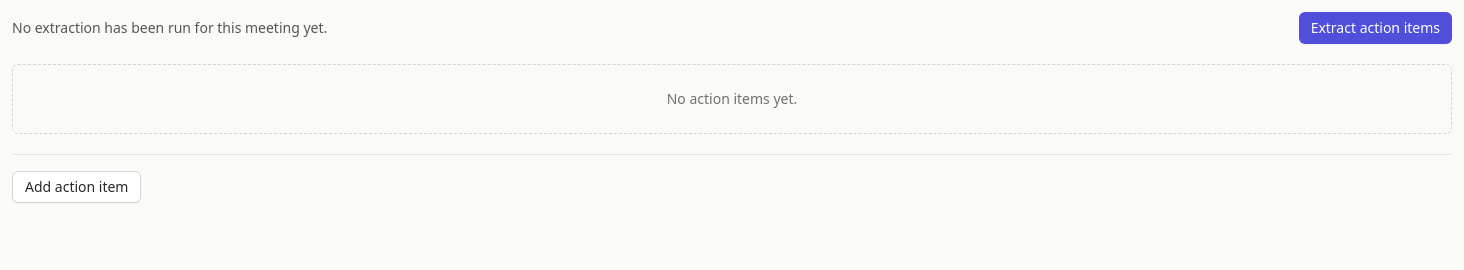
Test: extraction state › starts extraction once even when clicked repeatedly, and explains a missing API key
Later steps or results of the test are not shown.
Click the button "Extract action items".
click(1375, 28)  # box [1299,12,1452,44]
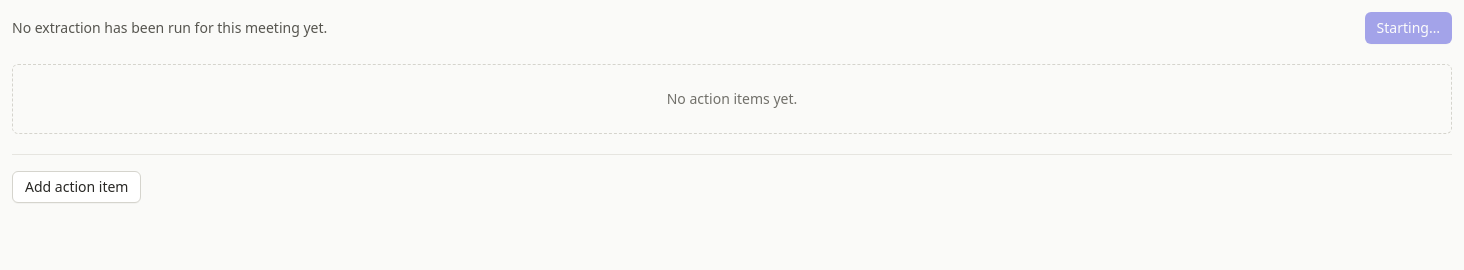
Click the button named "Extract action items".
click(1408, 28)  # box [1365,12,1452,44]
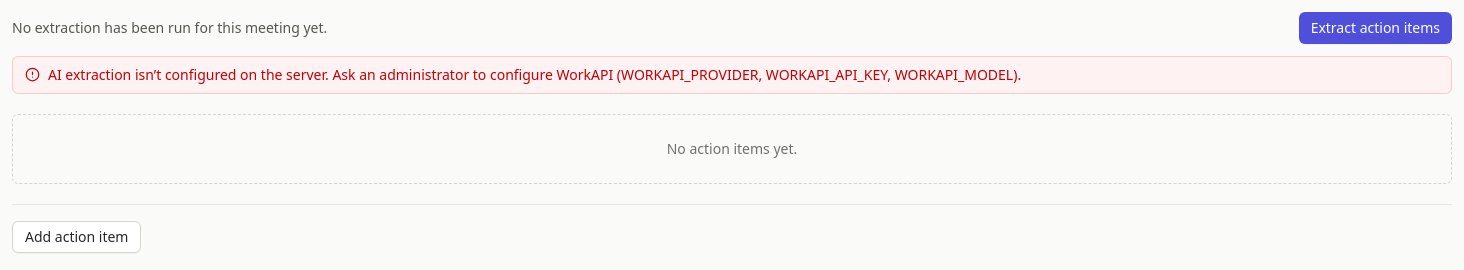
expect the text "isn’t configured on the server" is shown: met, box [48,65,1021,84]
